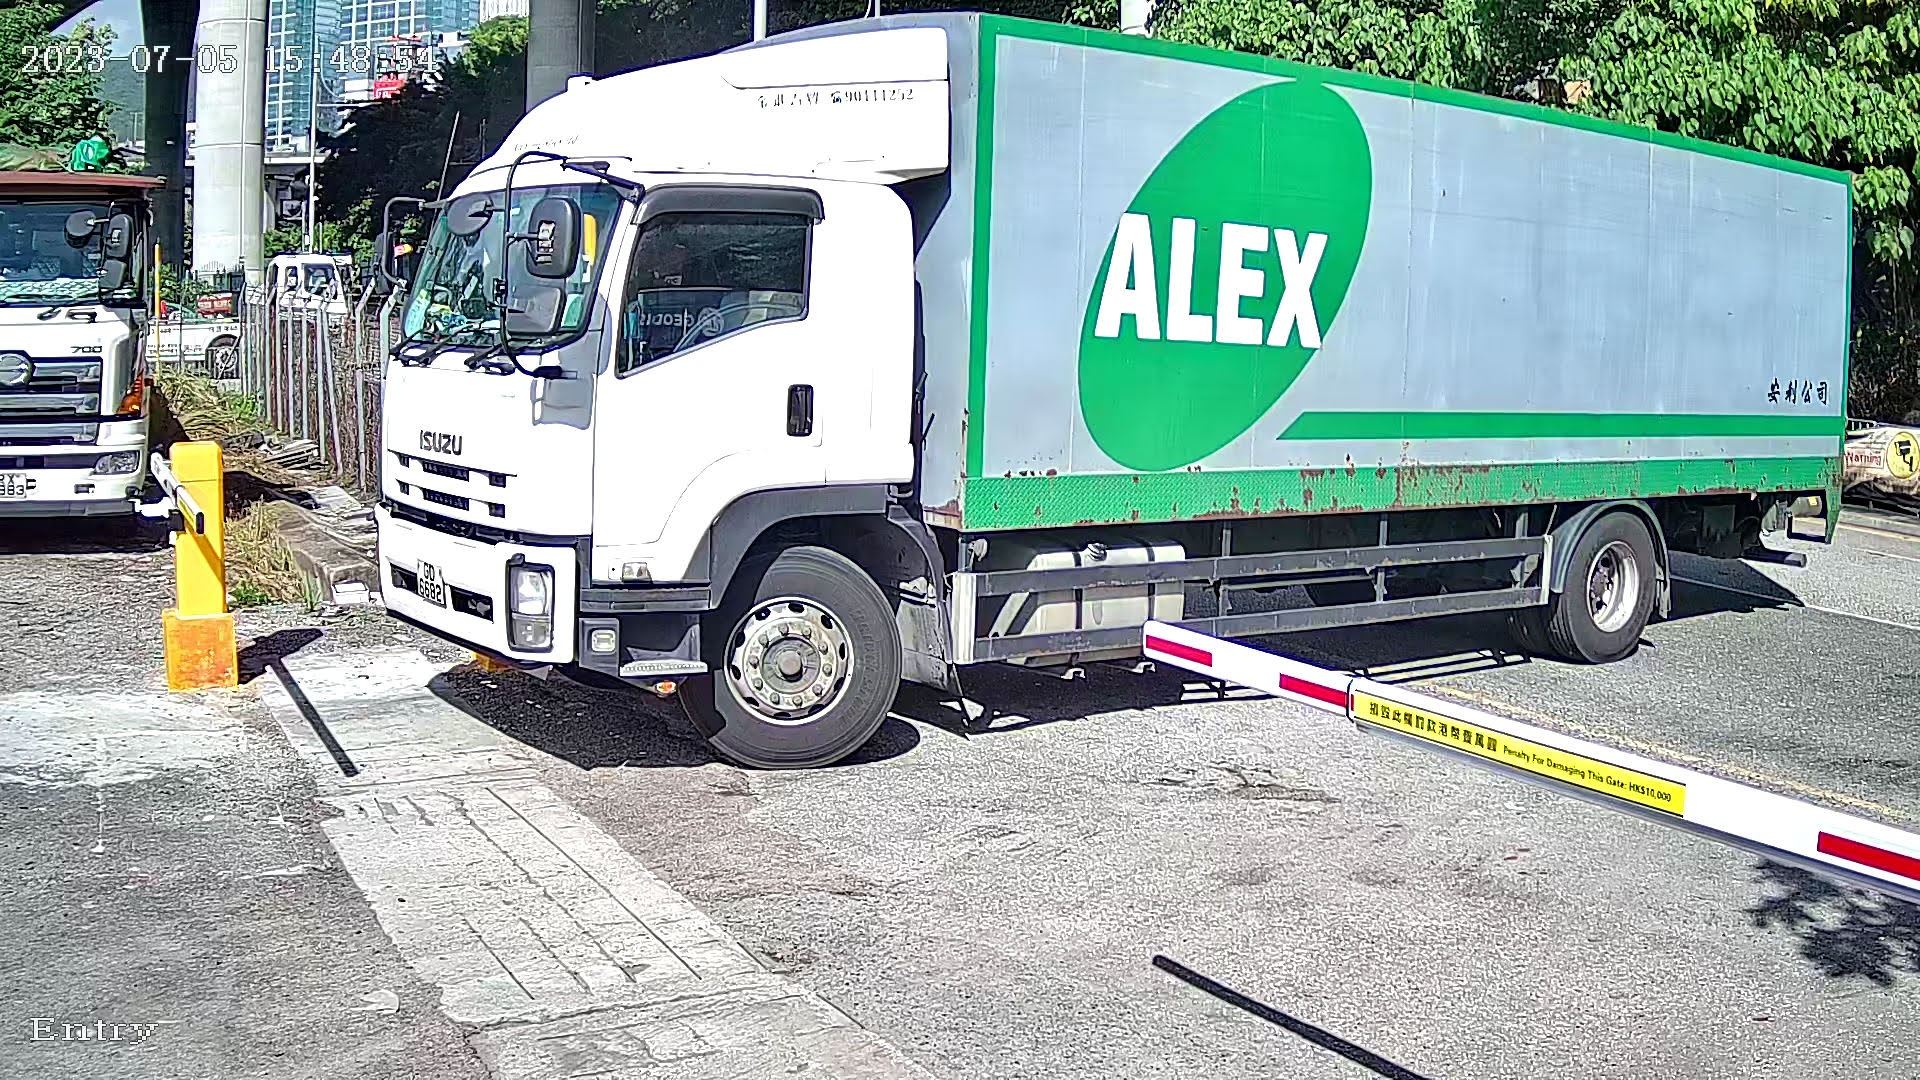truck_large: (336, 1, 1865, 804)
